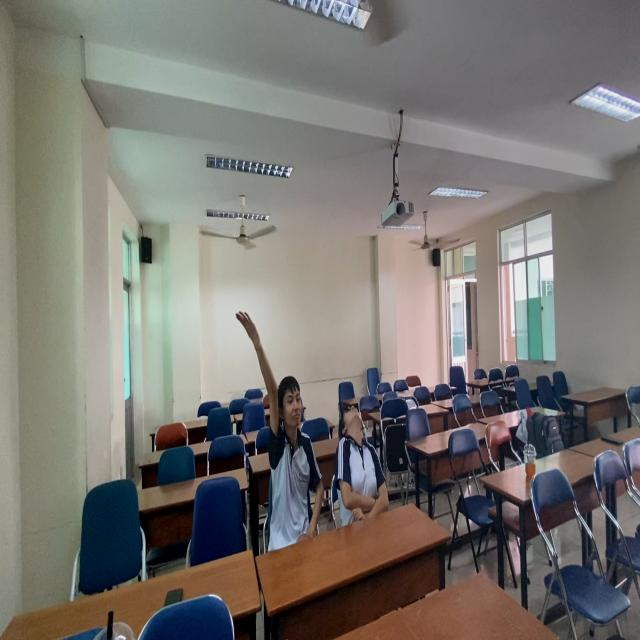raise_hand: (233, 302, 324, 544)
